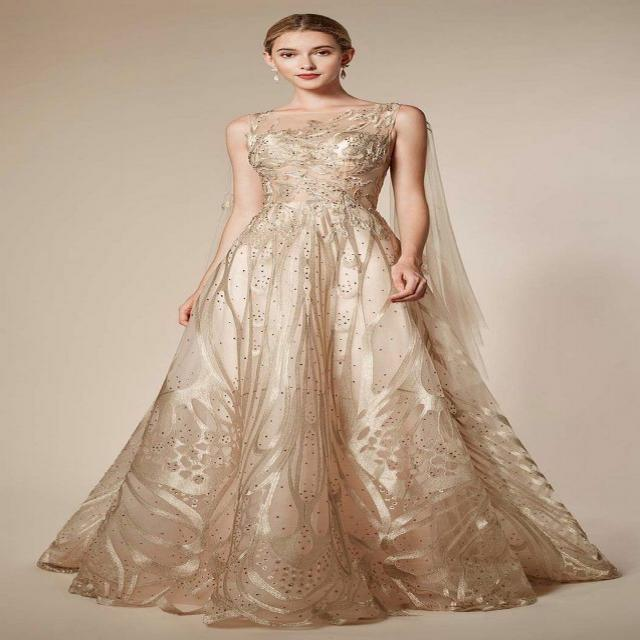female-dress: (67, 118, 610, 624)
